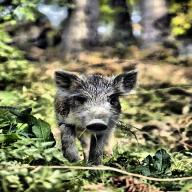boar: (42, 60, 152, 176)
